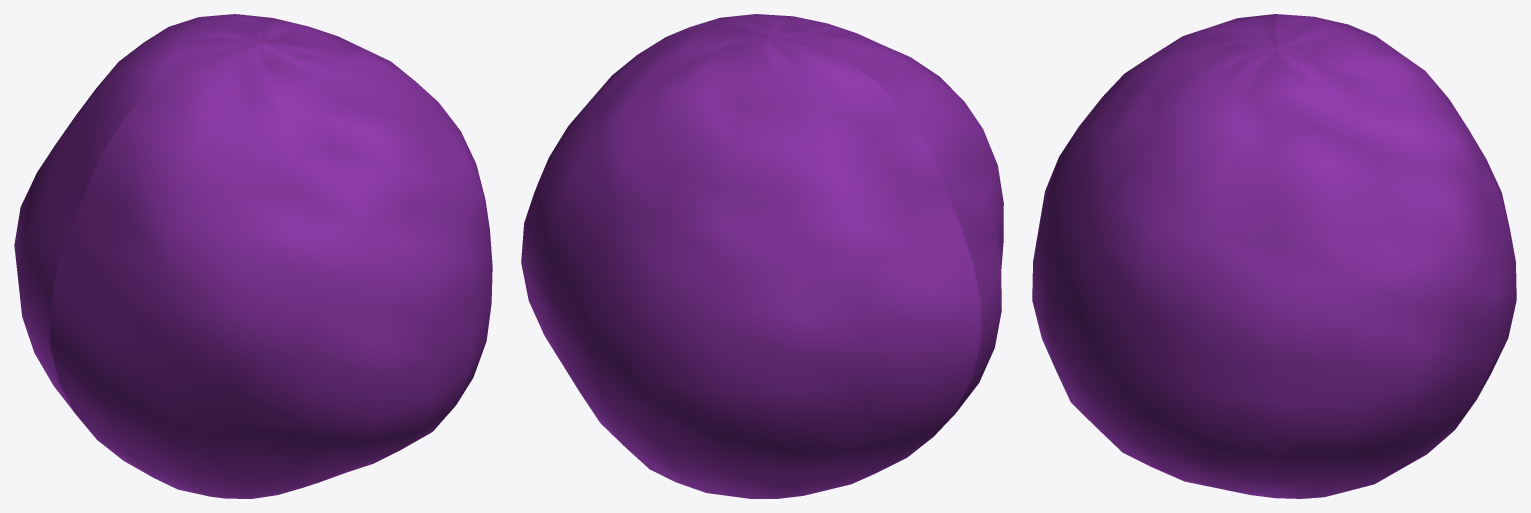
File: falsa.glb
3 renders of one model, left to right at view 1: azimuth 30°, elevation 25°; view 2: azimuth 150°, elevation 25°; view 3: azimuth 270°, elevation 25°, orthographic.
Visible parts, largest first — view 1: falsa; view 2: falsa; view 3: falsa.
Boxes of the visible parts, x1,y1,x2,y2 form: falsa: (14,14,492,498); falsa: (521,14,1003,498); falsa: (1032,14,1516,498).
Bounding box in the file's own units: 0.5016 × 0.5019 × 0.5017.
